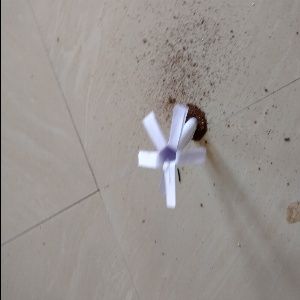weed: (133, 102, 199, 198)
